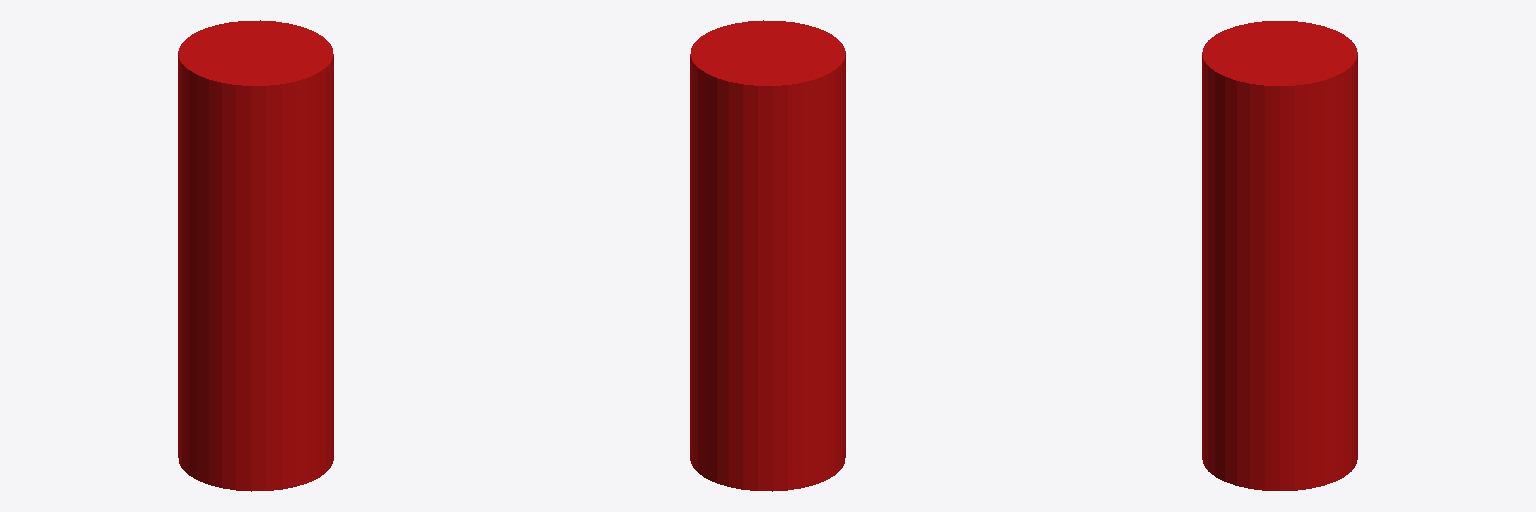
The robot description file, URDF, robot "pringles":
<?xml version="1.0" ?>
<!-- Pringles: cylinder 8cm diameter x 23cm tall -->
<robot name="pringles">
  <link name="pringles_link">
    <visual>
      <geometry>
        <cylinder radius="0.04" length="0.23"/>
      </geometry>
      <material name="pringles_color">
        <color rgba="0.80 0.10 0.10 1.0"/>
      </material>
    </visual>
    <collision>
      <geometry>
        <cylinder radius="0.04" length="0.23"/>
      </geometry>
    </collision>
    <inertial>
      <mass value="0.2"/>
      <inertia ixx="0.001" ixy="0.0" ixz="0.0" iyy="0.001" iyz="0.0" izz="0.001"/>
    </inertial>
  </link>
</robot>

--- What the picture shows (computed from the rendered views, not written in the file) ---
Views: 3 orthographic renders of the robot side by side, from view 1: azimuth 30°, elevation 25°; view 2: azimuth 150°, elevation 25°; view 3: azimuth 270°, elevation 25°.
Model pringles with 1 links and 0 joints (none), rooted at pringles_link, posed all joints at 0.
Visible links, largest first — view 1: pringles_link; view 2: pringles_link; view 3: pringles_link.
Link boxes in pixels (<box>): pringles_link: <box>178,20,333,491</box>; pringles_link: <box>690,20,845,491</box>; pringles_link: <box>1202,21,1357,490</box>.
Bounding box of the posed robot: 0.08 × 0.08 × 0.23 m (x, y, z).
Geometry: primitives only (box / cylinder / sphere), no mesh files.
